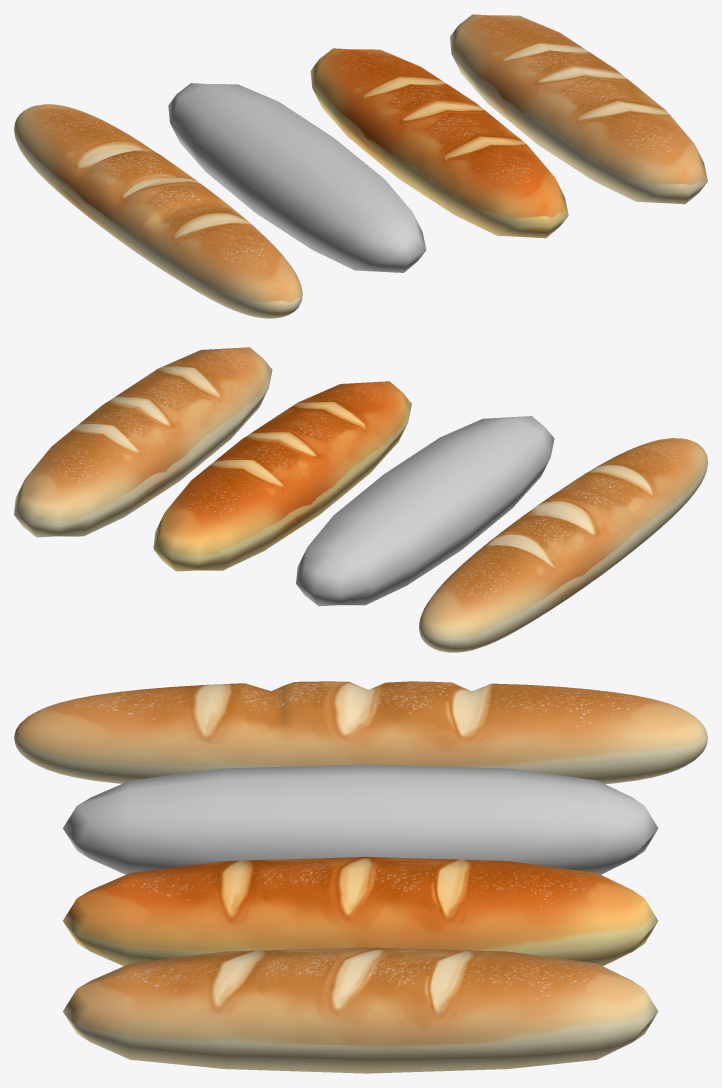
The model's file is breadfbx.fbx.
3 views of the same model, one above another, from view 1: azimuth 30°, elevation 25°; view 2: azimuth 150°, elevation 25°; view 3: azimuth 270°, elevation 25° (orthographic). The views are drawn at different scales.
Visible parts, largest first — view 1: bagg_low1, bagg_low3, bagg_low, bagg_low2; view 2: bagg_low1, bagg_low, bagg_low3, bagg_low2; view 3: bagg_low3, bagg_low1, bagg_low, bagg_low2.
Boxes of the visible parts, x1,y1,x2,y2 form: bagg_low1: (14, 104, 302, 318); bagg_low3: (450, 14, 707, 204); bagg_low: (168, 83, 426, 272); bagg_low2: (310, 48, 568, 238); bagg_low1: (419, 438, 707, 652); bagg_low: (296, 416, 554, 606); bagg_low3: (14, 347, 272, 537); bagg_low2: (153, 381, 411, 571); bagg_low3: (63, 947, 658, 1073); bagg_low1: (14, 681, 707, 784); bagg_low: (63, 764, 658, 874); bagg_low2: (63, 857, 658, 966).
Size of the model in its own units: 5 by 0.6723 by 4.35.
